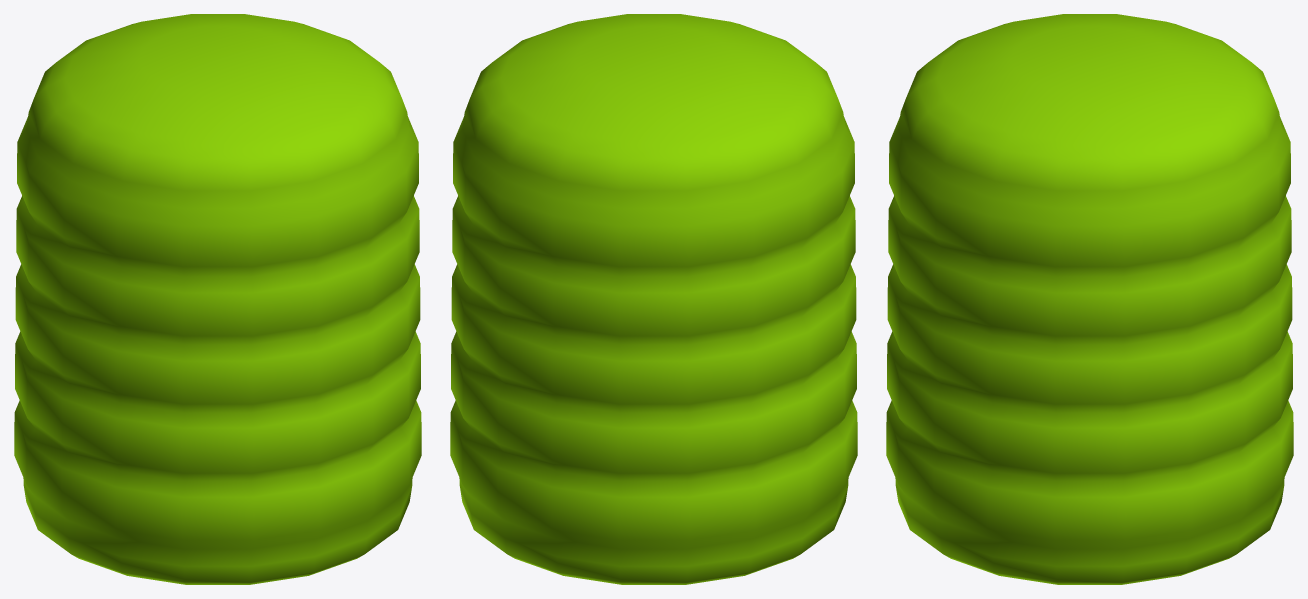
Rendered from SPP_MOD_Water_bottle_02.fbx.
3 renders of one model, left to right at view 1: azimuth 30°, elevation 25°; view 2: azimuth 150°, elevation 25°; view 3: azimuth 270°, elevation 25°, orthographic.
Parts seen in each view (by area): view 1: SPP_MOD_Water_bottle_02; view 2: SPP_MOD_Water_bottle_02; view 3: SPP_MOD_Water_bottle_02.
Part boxes in pixels (bbox=[...]): SPP_MOD_Water_bottle_02: bbox=[14, 14, 421, 584]; SPP_MOD_Water_bottle_02: bbox=[450, 14, 857, 584]; SPP_MOD_Water_bottle_02: bbox=[886, 14, 1293, 584].
Bounding box in the file's own units: 0.3437 × 0.4255 × 0.349.
